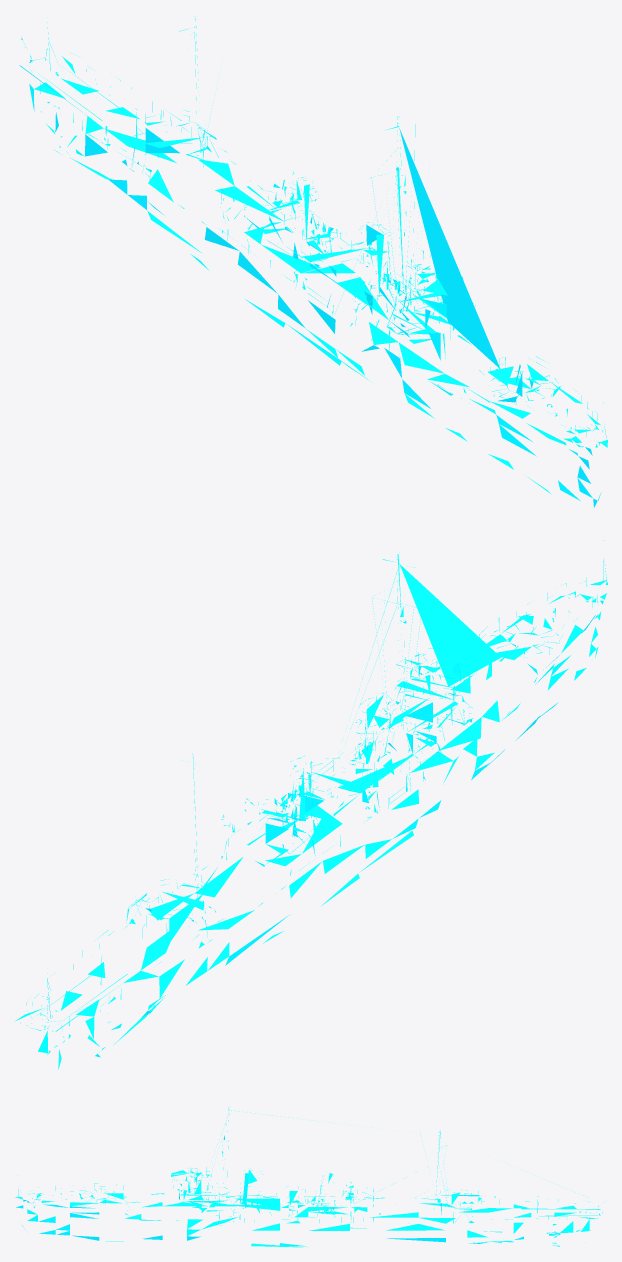
Rendered from Wakatake.glb.
3 renders of one model, top to bottom at view 1: azimuth 30°, elevation 25°; view 2: azimuth 150°, elevation 25°; view 3: azimuth 270°, elevation 25°, orthographic. The views are drawn at different scales.
Bounding box in the file's own units: 0.5217 × 1.54 × 5.97.
